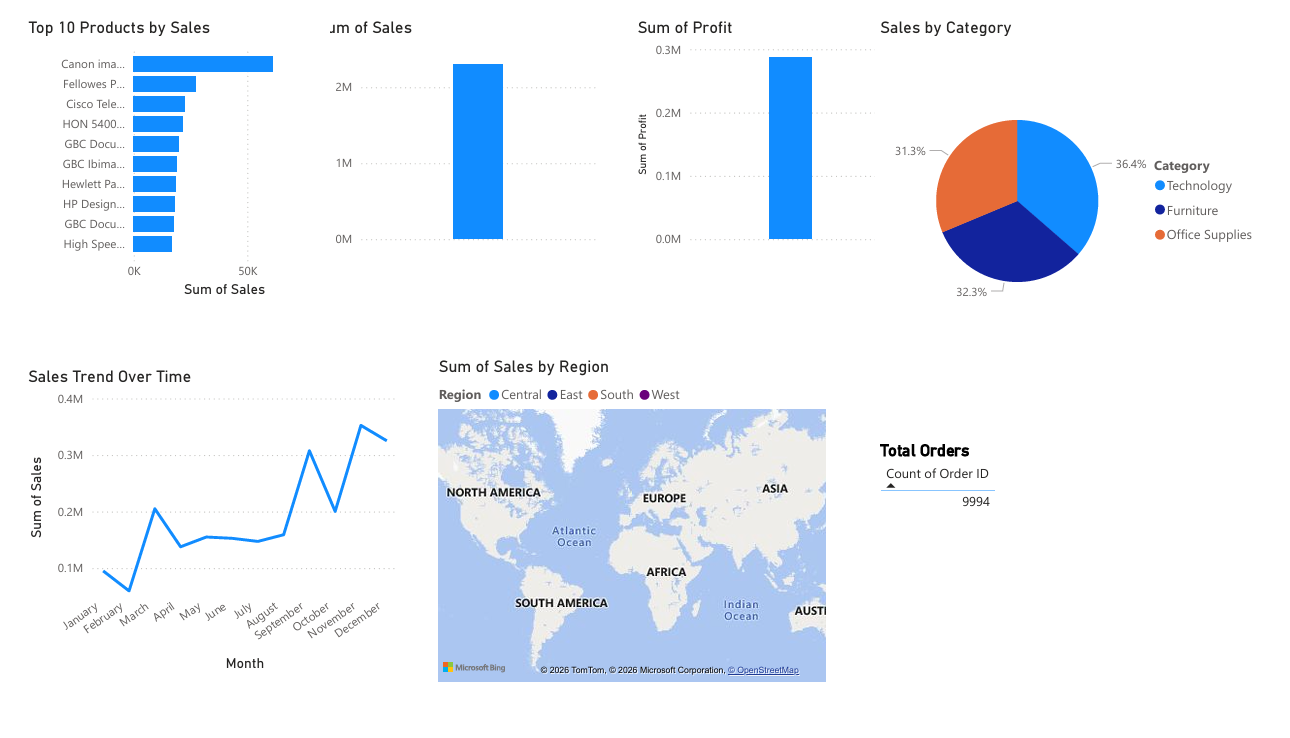

What the dashboard file says about the page in this screenshot:
{"tool":"powerbi","page":{"name":"Executive Dashboard","canvas":[1280,720],"ordinal":0},"visuals":[{"type":"clusteredColumnChart","fields":{"Y":["Sum(Sample Superstone.Sales)"]},"box":[297.5,0,298.8,242.5],"z":1000},{"type":"clusteredColumnChart","fields":{"Y":["Sum(Sample Superstone.Profit)"]},"box":[627.5,0,272.5,242.5],"z":2000},{"type":"tableEx","title":"Total Orders","fields":{"Values":["Sample Superstone.Order ID"]},"box":[877.5,436.2,343.8,242.5],"z":3000},{"type":"lineChart","title":"Sales Trend Over Time","fields":{"Category":["Sample Superstone.Order Date.Variation.Date Hierarchy.Month","Sample Superstone.Order Date.Variation.Date Hierarchy.Day"],"Y":["Sum(Sample Superstone.Sales)"]},"box":[0,360,390,318.8],"z":4000},{"type":"clusteredBarChart","title":"Top 10 Products by Sales","fields":{"Category":["Sample Superstone.Product Name"],"Y":["Sum(Sample Superstone.Sales)"]},"box":[0,0,316.2,293.8],"z":5000},{"type":"pieChart","title":"Sales by Category","fields":{"Category":["Sample Superstone.Category"],"Y":["Sum(Sample Superstone.Sales)"]},"box":[877.5,0,402.5,360],"z":6000},{"type":"map","fields":{"Series":["Sample Superstone.Region"],"Size":["Sum(Sample Superstone.Sales)"]},"box":[422.5,350,408.8,340],"z":7000}]}

Visuals, with their boxes in screenshot pixels (x1, y1, x2, y2), scaled from the page's 1280x720 canvas onto the 1290x738 screenshot:
clusteredColumnChart - Sum(Sample Superstone.Sales): (left=300, top=0, right=601, bottom=249)
clusteredColumnChart - Sum(Sample Superstone.Profit): (left=632, top=0, right=907, bottom=249)
"Total Orders" tableEx: (left=884, top=447, right=1231, bottom=696)
"Sales Trend Over Time" lineChart: (left=0, top=369, right=393, bottom=696)
"Top 10 Products by Sales" clusteredBarChart: (left=0, top=0, right=319, bottom=301)
"Sales by Category" pieChart: (left=884, top=0, right=1289, bottom=369)
map - Sample Superstone.Region x Sum(Sample Superstone.Sales): (left=426, top=359, right=838, bottom=707)
